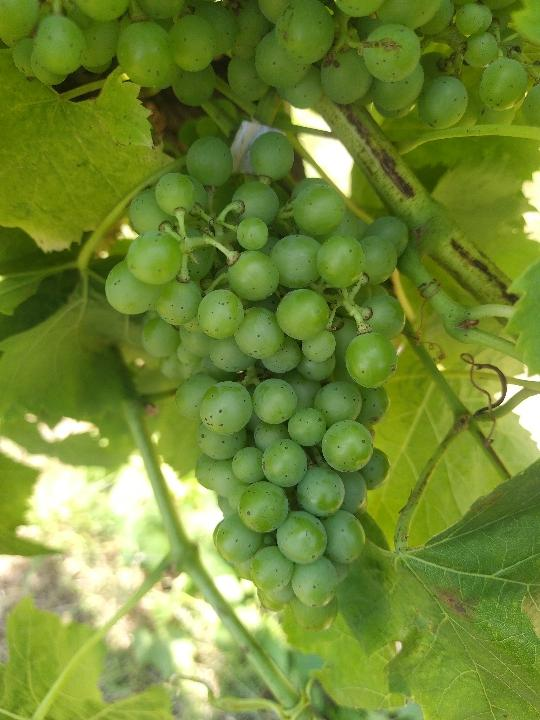grape: (101, 126, 407, 635)
